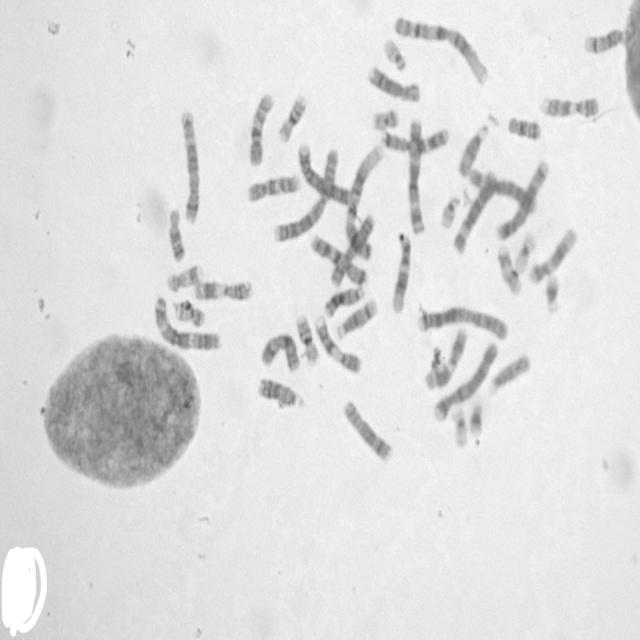A1: (393, 14, 491, 87), (343, 143, 384, 263)
A2: (271, 147, 340, 245), (416, 305, 508, 339)
A3: (152, 294, 224, 354), (408, 114, 426, 234)
B4: (431, 342, 500, 423), (296, 140, 352, 207)
B5: (496, 158, 550, 242), (180, 108, 202, 226)
C10: (247, 92, 276, 168), (246, 172, 302, 205)
C11: (424, 327, 470, 392), (194, 278, 254, 302)
C12: (527, 227, 579, 286), (390, 232, 412, 316)
C6: (452, 168, 500, 258), (468, 165, 538, 215)
C7: (309, 233, 369, 287), (381, 126, 449, 154)
C8: (343, 398, 394, 462), (367, 65, 421, 103)
C9: (314, 314, 362, 375), (540, 94, 600, 120)
D13: (256, 375, 306, 411), (322, 284, 364, 318)
D14: (336, 299, 377, 342), (582, 29, 627, 56)
D15: (456, 121, 489, 179), (490, 353, 532, 395)
E16: (276, 94, 307, 145), (295, 311, 320, 365)
E17: (498, 243, 524, 295), (166, 263, 206, 293)
E18: (167, 207, 187, 262), (508, 115, 542, 141)
F19: (514, 232, 538, 274), (451, 405, 468, 449)
F20: (174, 298, 207, 330), (373, 108, 400, 132)
G21: (544, 273, 562, 315), (469, 402, 485, 439)
G22: (382, 36, 407, 70), (439, 195, 462, 231)
X: (328, 212, 376, 290), (260, 332, 300, 374)
